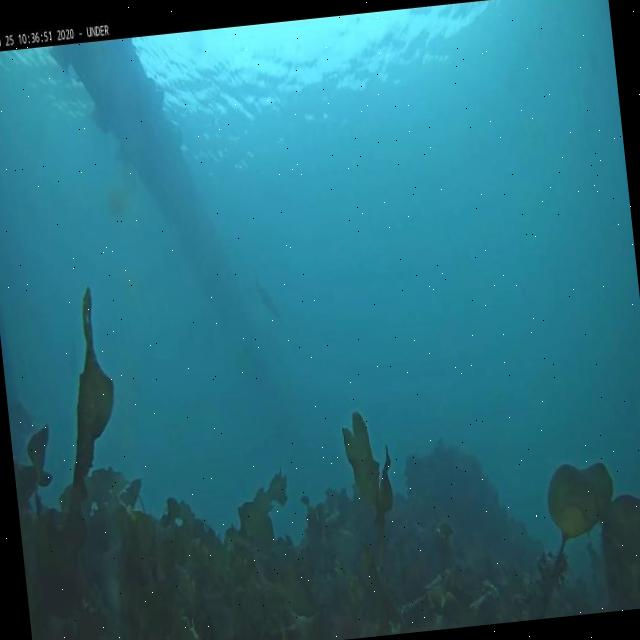fish: (252, 268, 282, 320), (7, 394, 36, 438)
